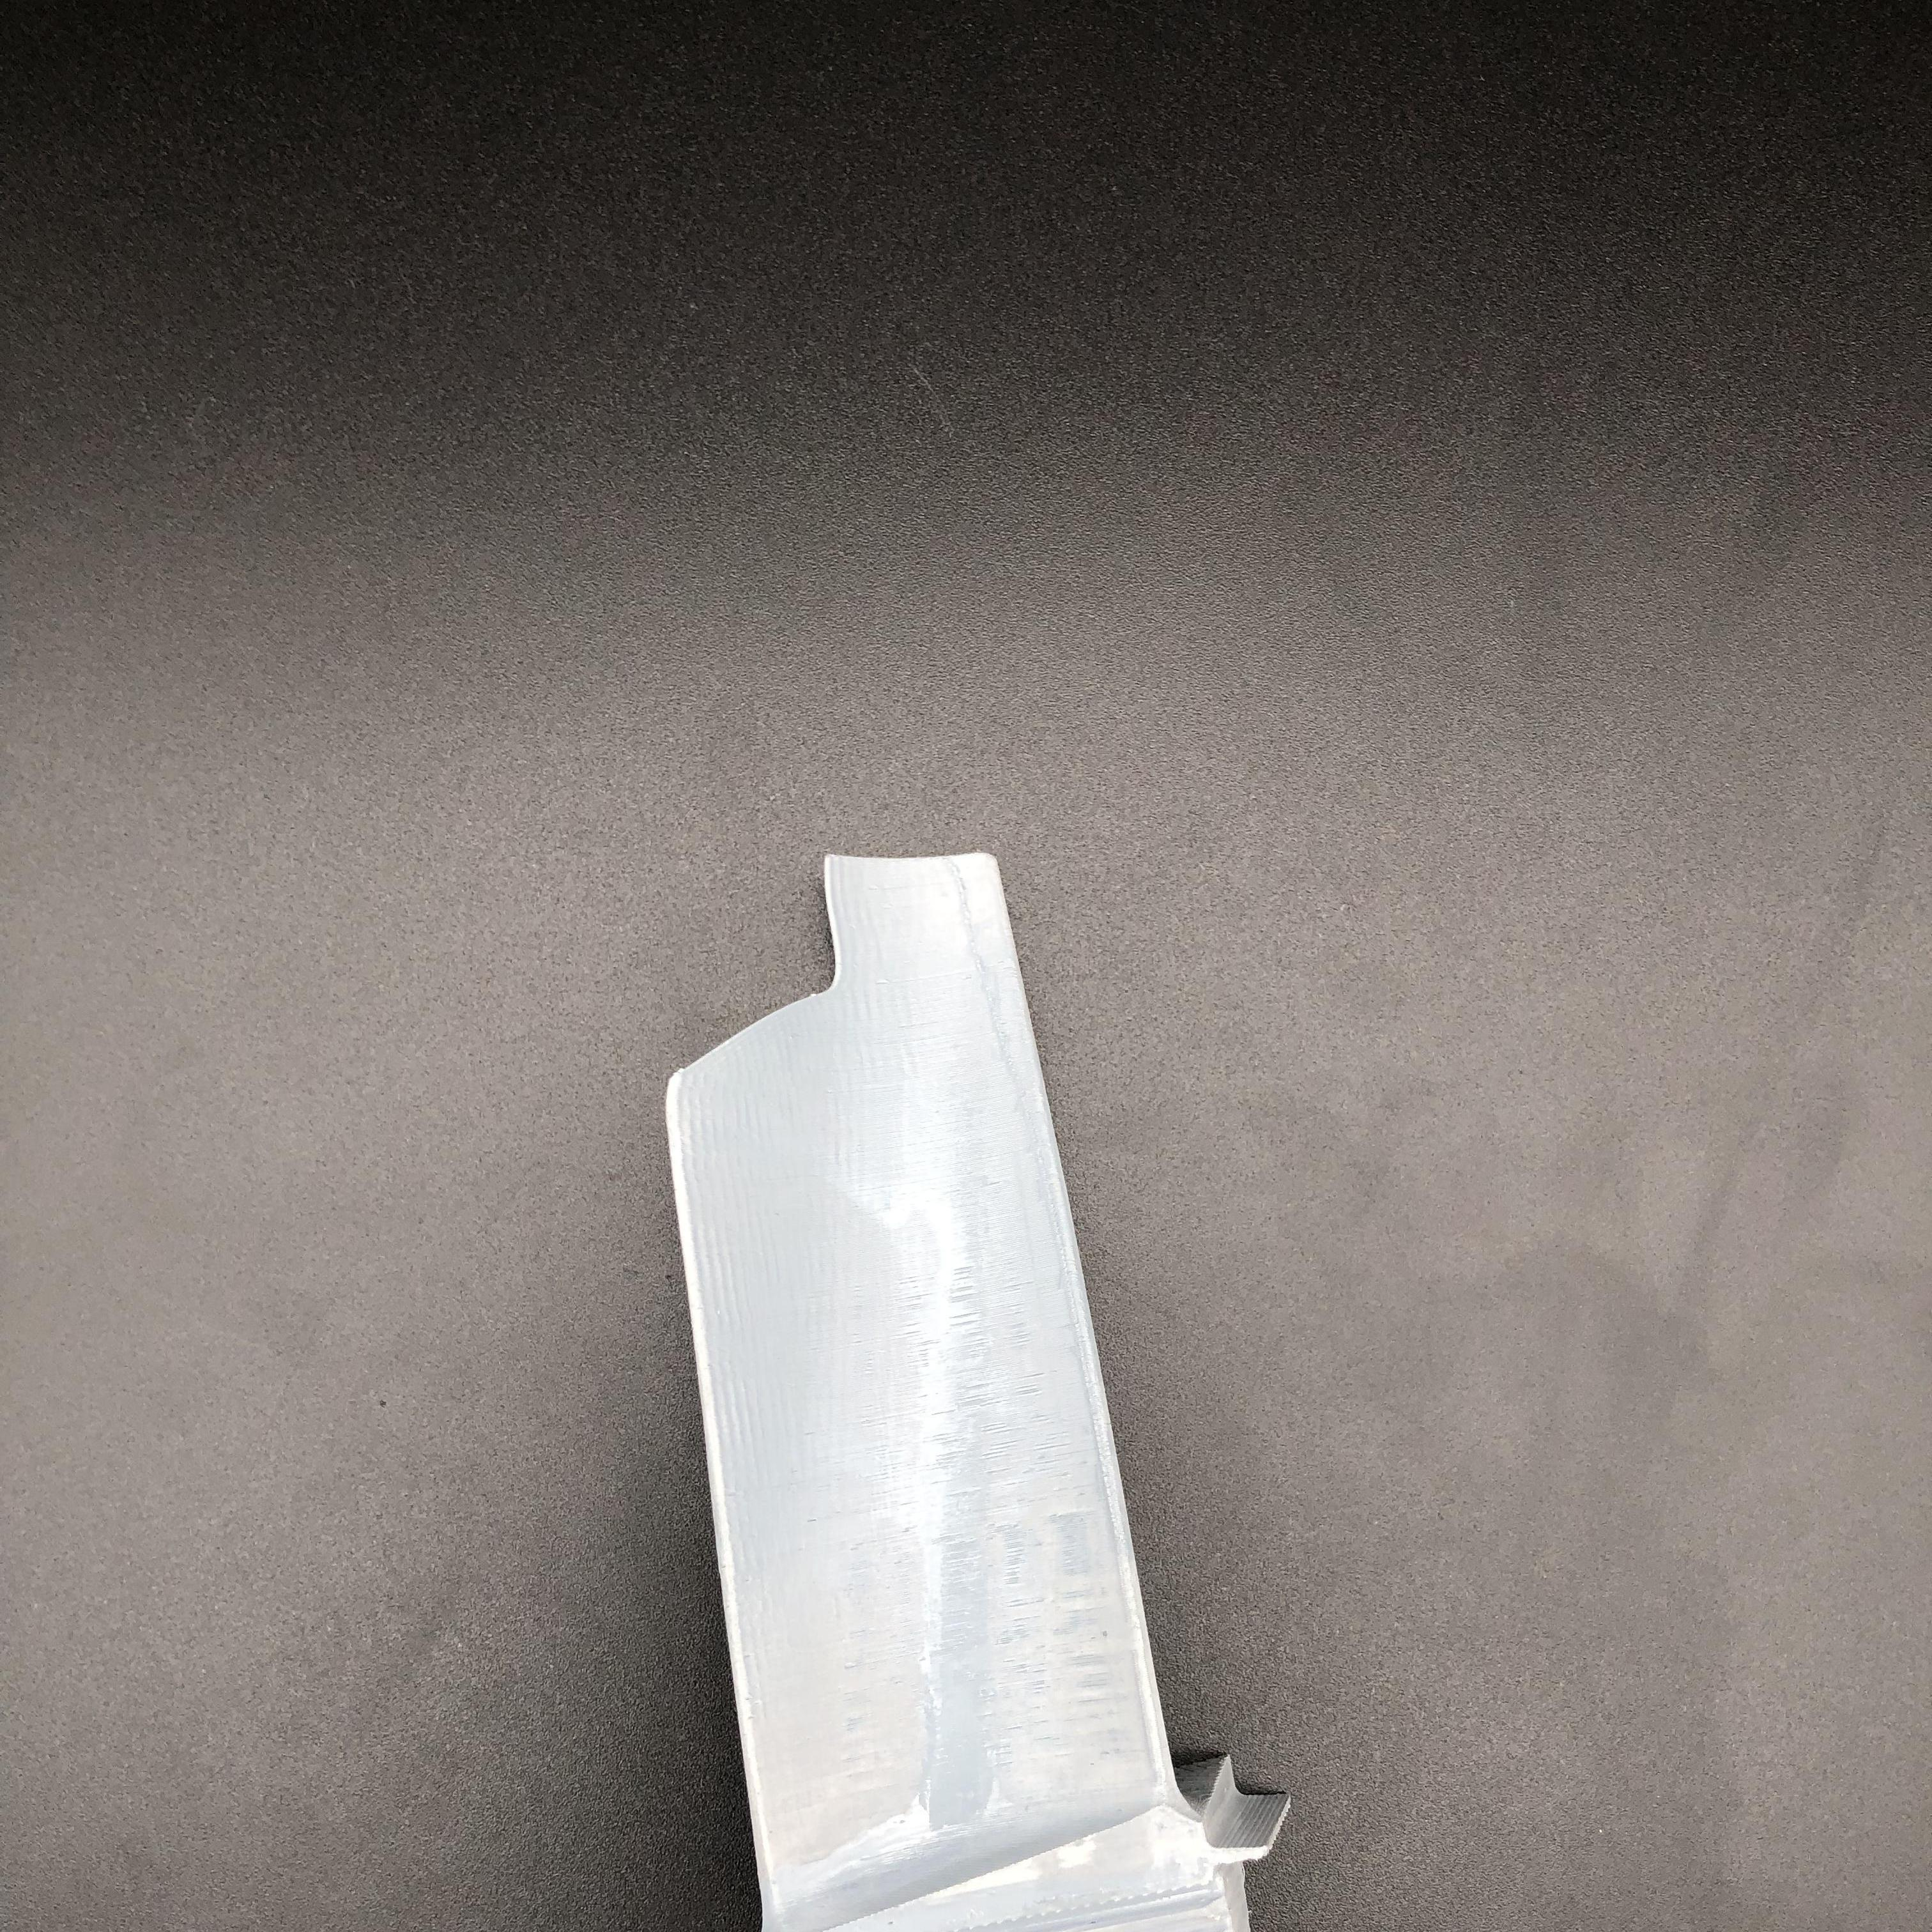fracture: (662, 881, 881, 1095)
